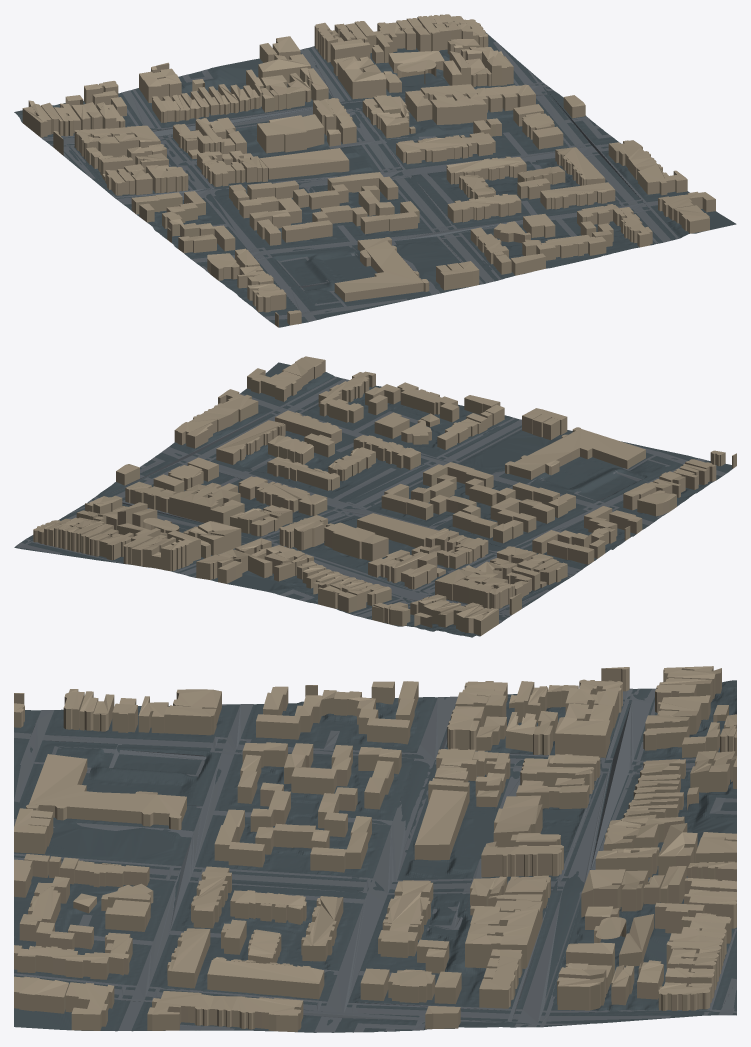
File: epsg26910-1431-10889.lod0.glb
3 renders of one model, top to bottom at view 1: azimuth 30°, elevation 25°; view 2: azimuth 150°, elevation 25°; view 3: azimuth 270°, elevation 25°, orthographic. The views are drawn at different scales.
Parts seen in each view (by area): view 1: epsg26910-1431-10889-lod0; view 2: epsg26910-1431-10889-lod0; view 3: epsg26910-1431-10889-lod0.
Boxes of the visible parts, left/top/right/bottom form: epsg26910-1431-10889-lod0: left=14, top=14, right=736, bottom=327; epsg26910-1431-10889-lod0: left=14, top=356, right=736, bottom=637; epsg26910-1431-10889-lod0: left=14, top=666, right=736, bottom=1032.
Bounding box in the file's own units: 384 × 38.79 × 384.
